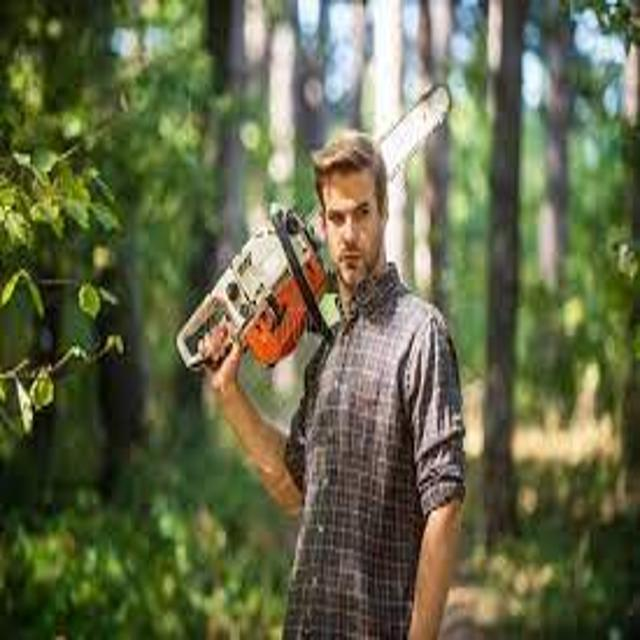poacher: (145, 110, 501, 640)
